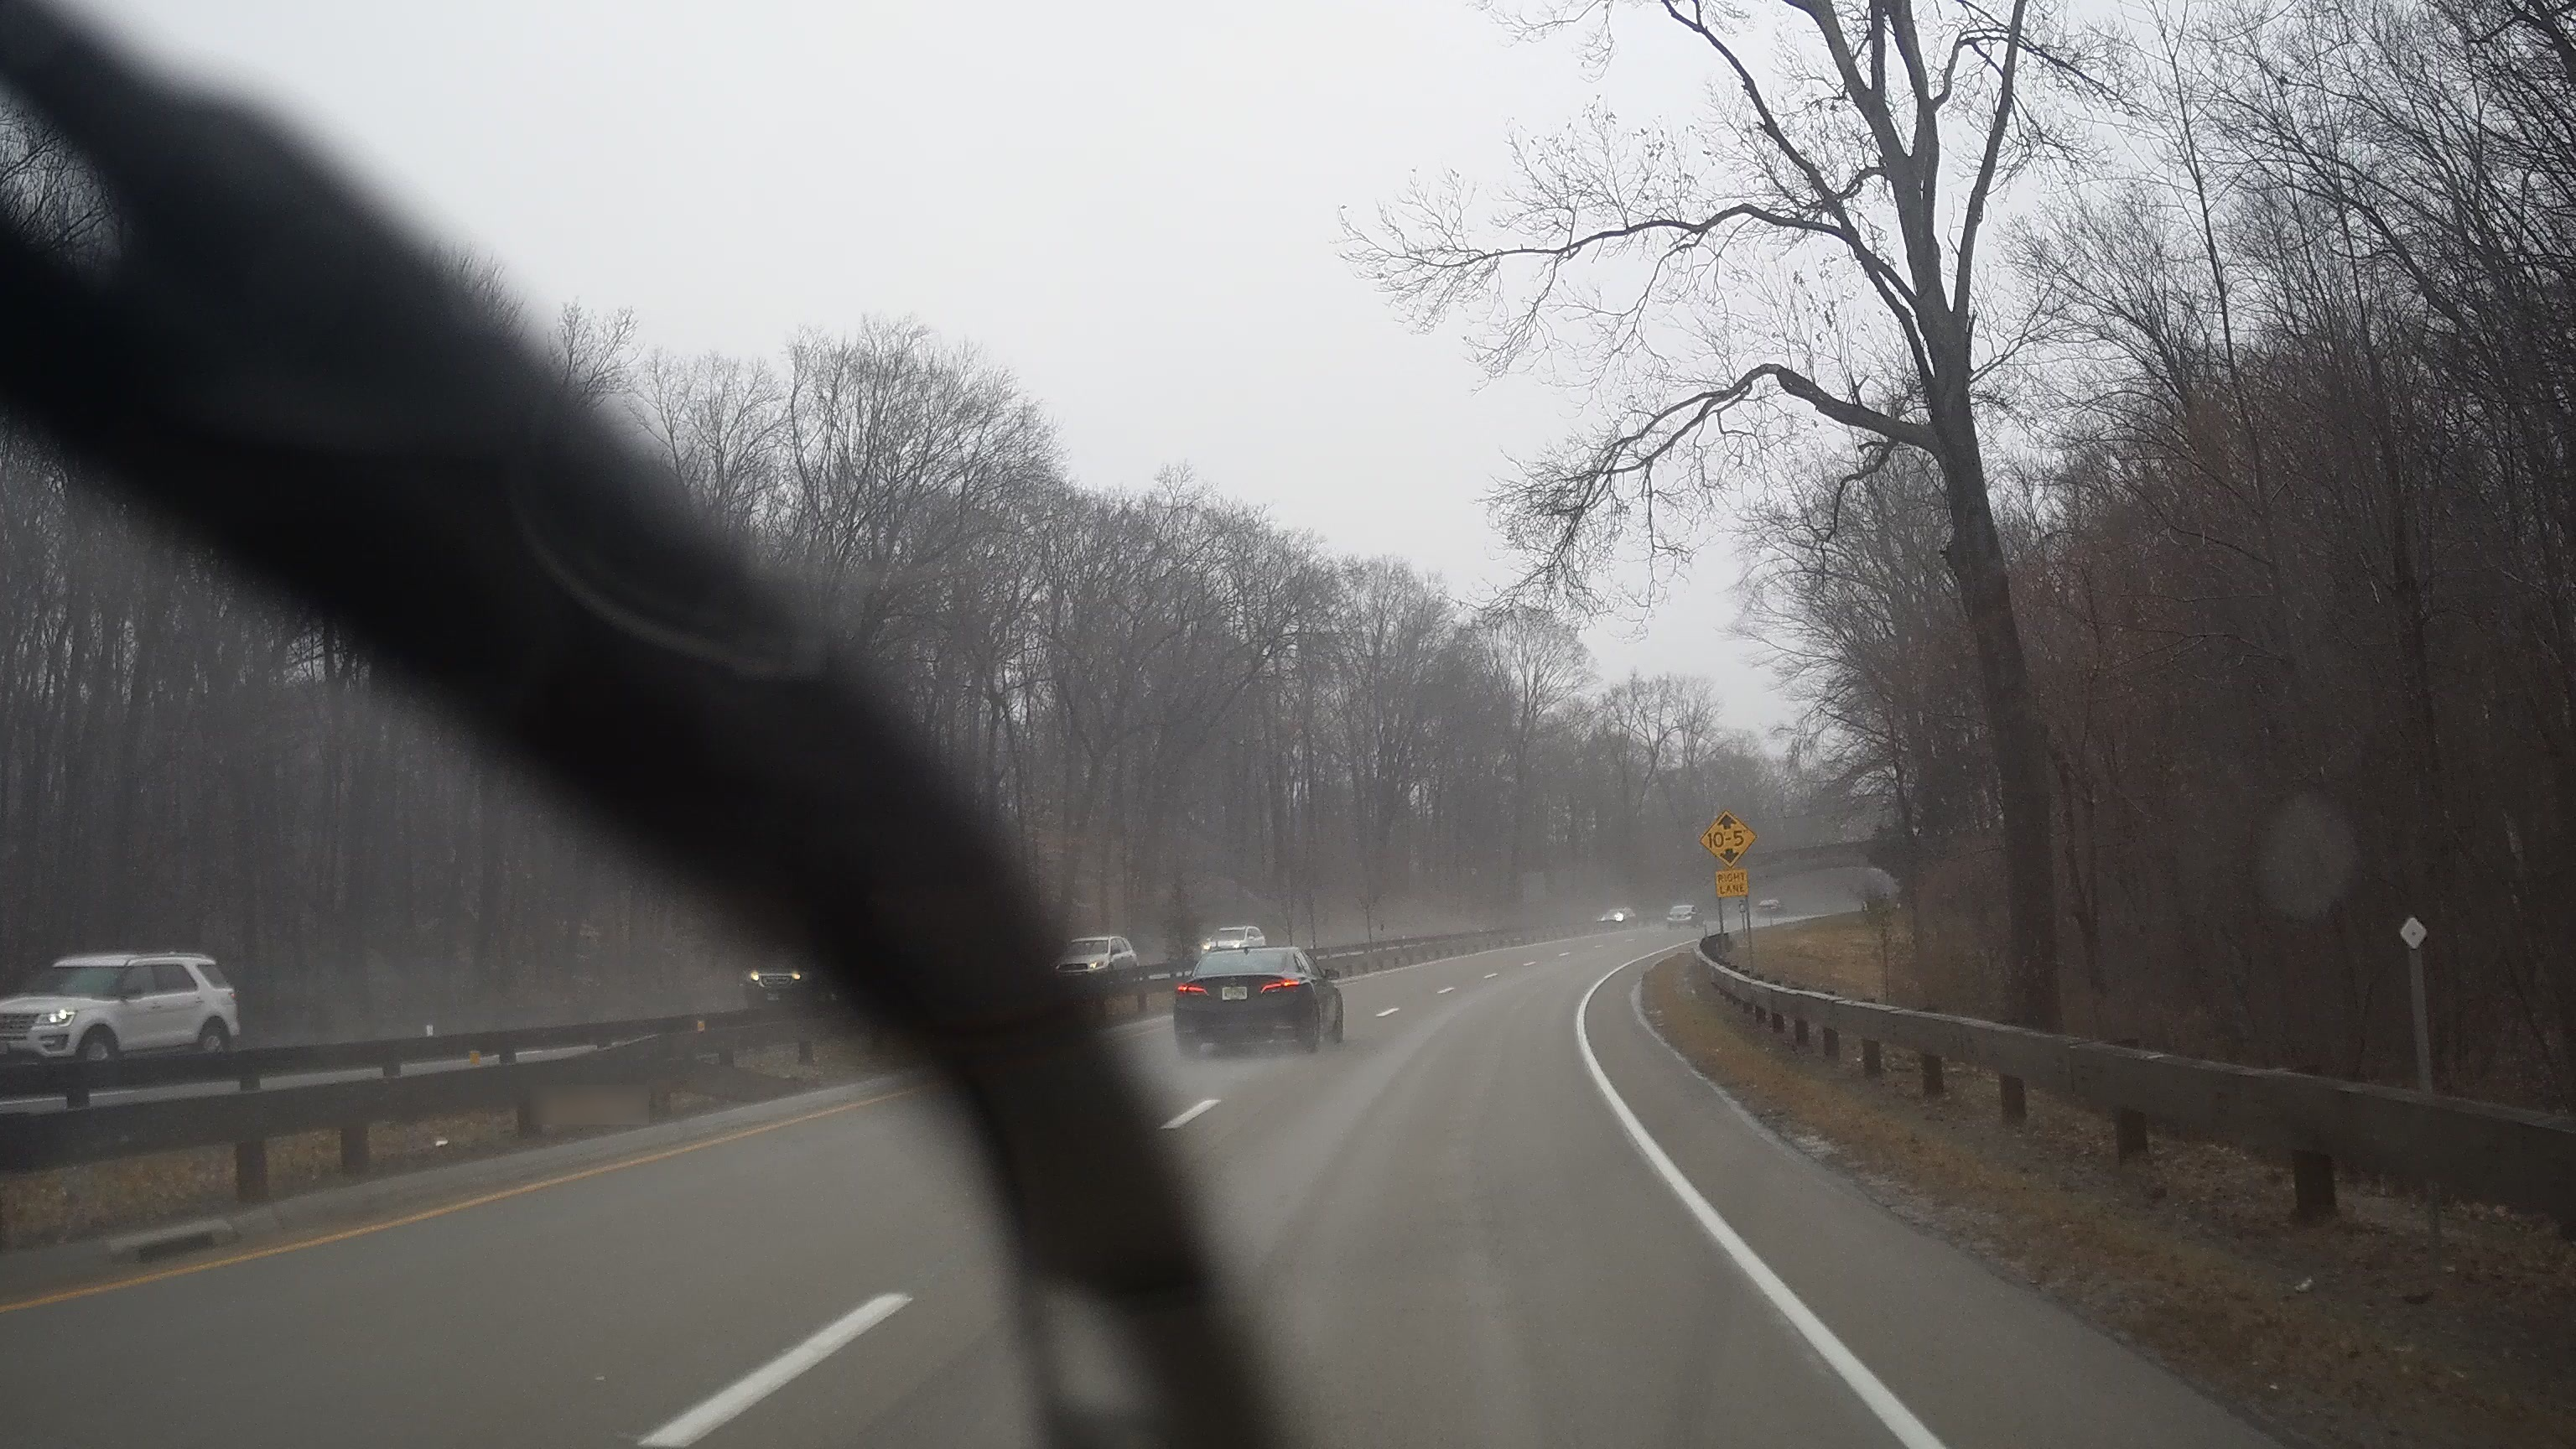low-clearance-sign: (1698, 809, 1759, 869)
